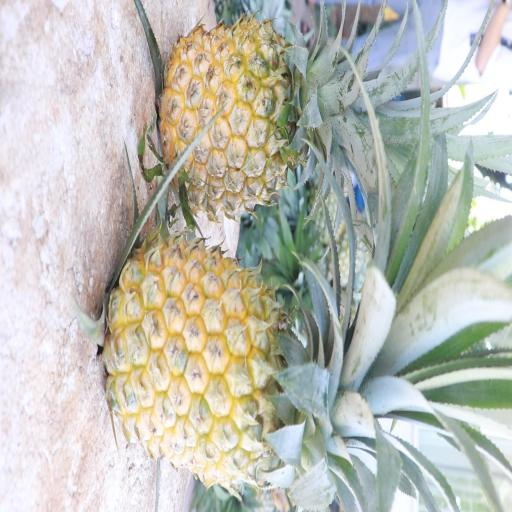Pineapple - v8 v1: (98, 230, 386, 492), (154, 12, 362, 224), (216, 154, 226, 158), (223, 112, 232, 112)
